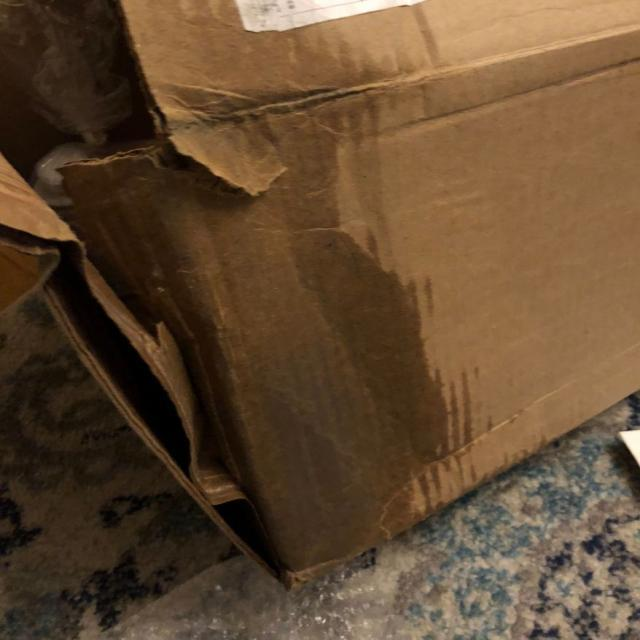wet: (77, 128, 461, 548)
